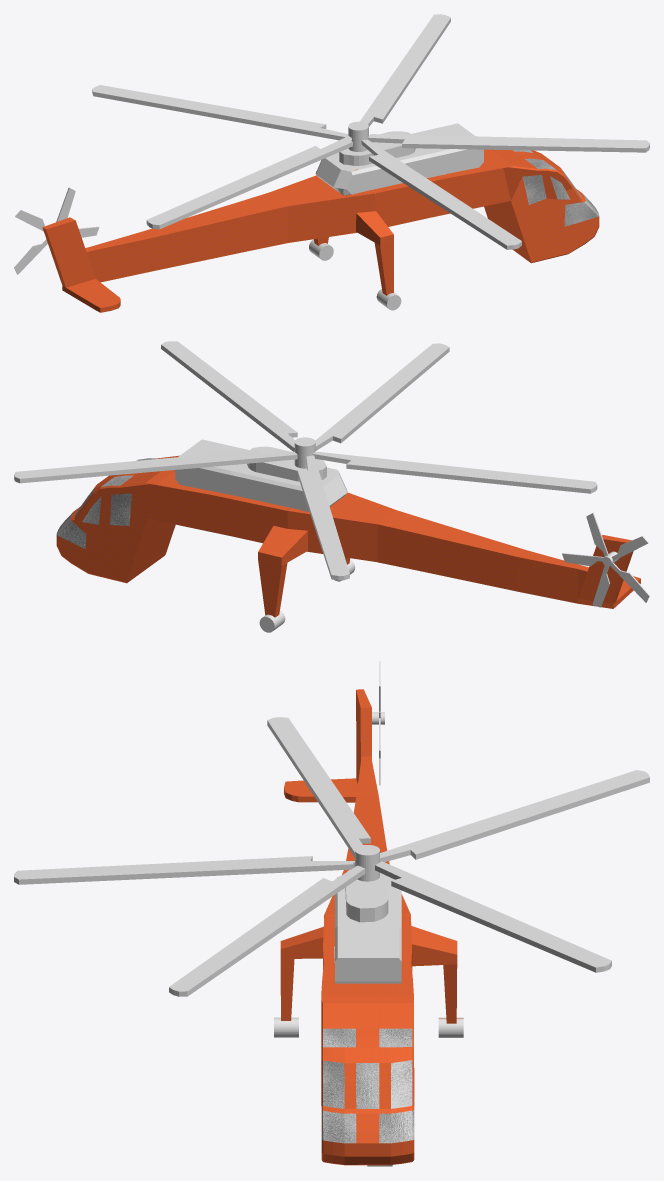
The model's file is helicopter.fbx.
The picture shows the model from 3 angles, top to bottom: view 1: azimuth 30°, elevation 25°; view 2: azimuth 150°, elevation 25°; view 3: azimuth 270°, elevation 25°; orthographic projection. The views are drawn at different scales.
Parts seen in each view (by area): view 1: Helicopter, Top Rotor, Tail Rotor; view 2: Helicopter, Top Rotor, Tail Rotor; view 3: Helicopter, Top Rotor.
Part boxes in pixels (left/top/right/bottom): Helicopter: left=42, top=123, right=599, bottom=312; Top Rotor: left=92, top=14, right=649, bottom=249; Tail Rotor: left=14, top=187, right=99, bottom=274; Helicopter: left=56, top=439, right=640, bottom=632; Top Rotor: left=14, top=341, right=597, bottom=580; Tail Rotor: left=562, top=512, right=649, bottom=607; Helicopter: left=274, top=689, right=463, bottom=1166; Top Rotor: left=14, top=717, right=649, bottom=996.
Bounding box in the file's own units: 317 × 92.7 × 254.
